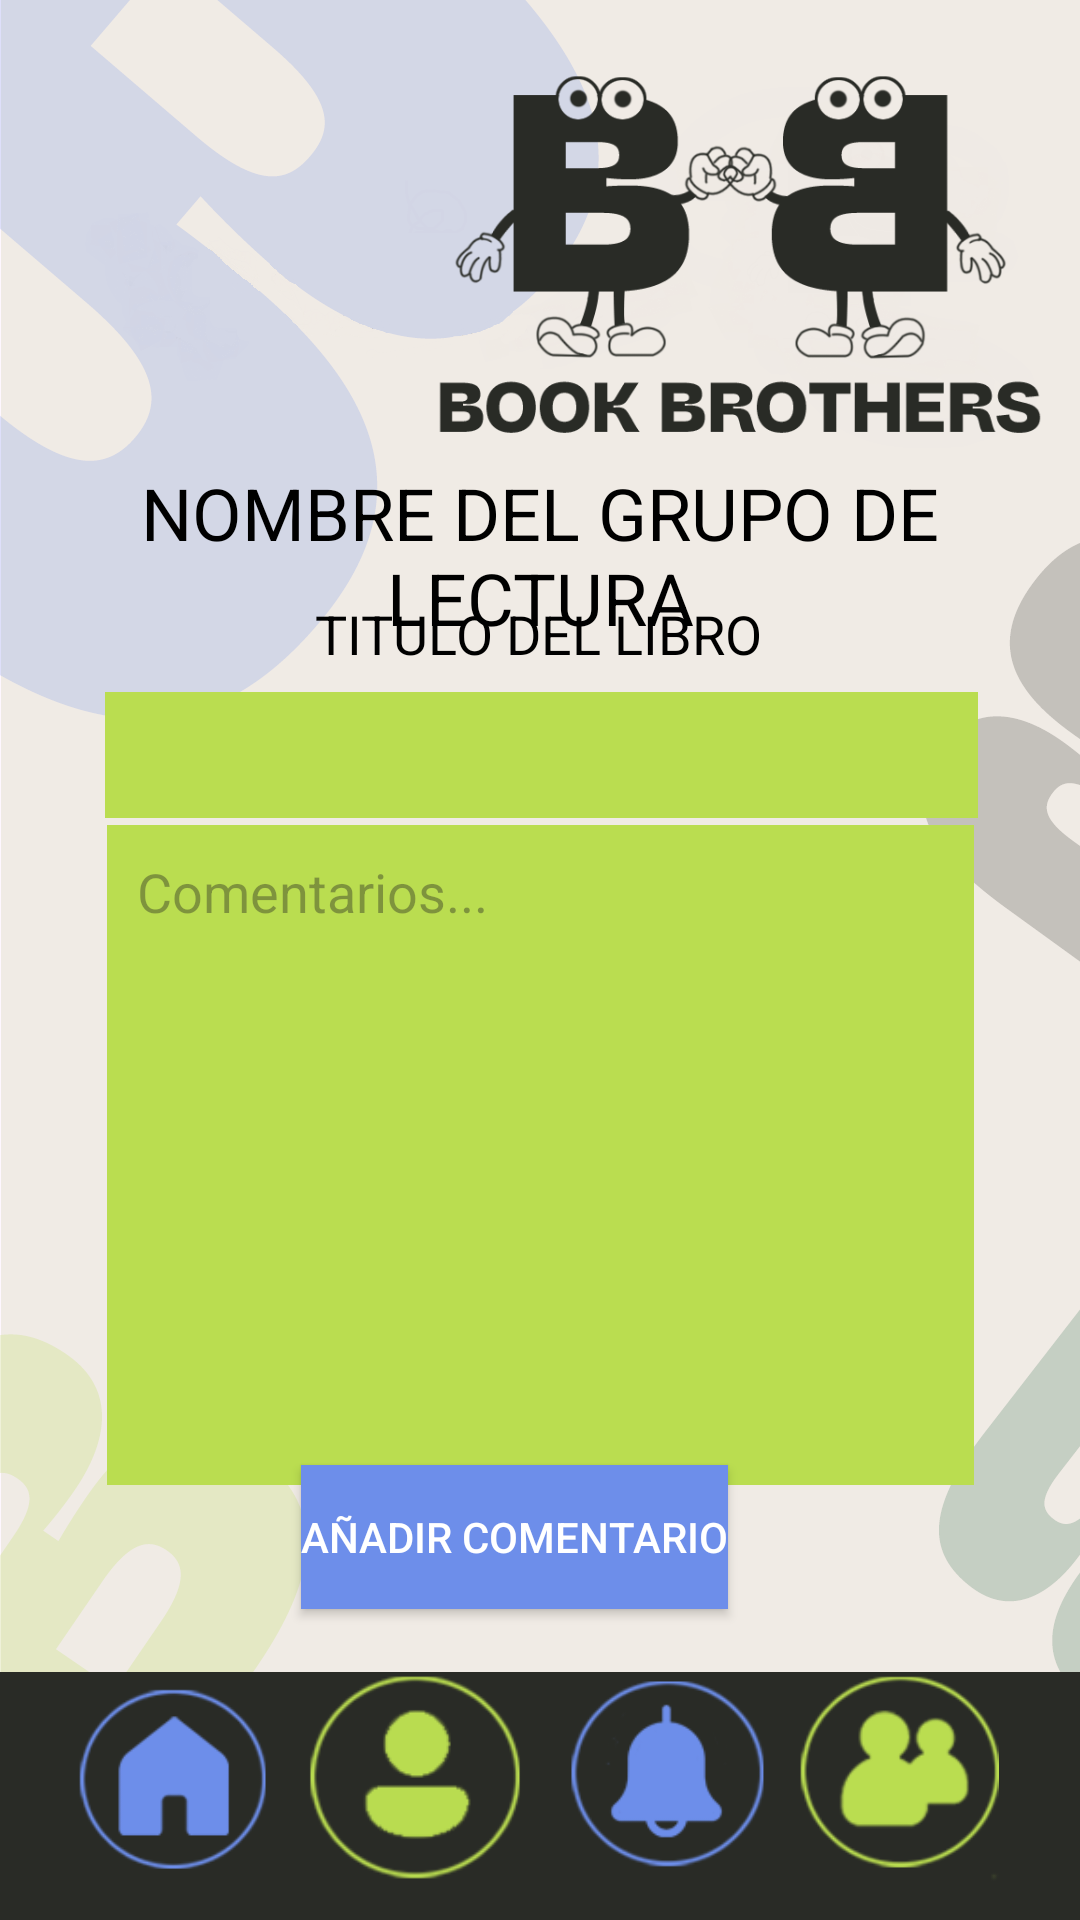

Point at icon controls on the screen. Image size 1080px×1920px, points as (x,y).
amigos home: (899,1772)
home: (172,1779)
notificaciones home: (667,1774)
perfil home: (415,1777)
